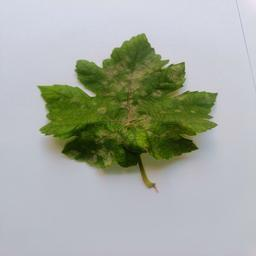Powdery-Mildew: (102, 55, 159, 94), (94, 103, 119, 141), (122, 113, 152, 144), (97, 148, 114, 165), (166, 66, 182, 82)
